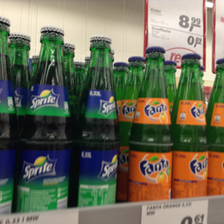soda: (20, 26, 72, 212), (72, 36, 119, 208), (129, 46, 175, 201), (173, 53, 208, 197)
